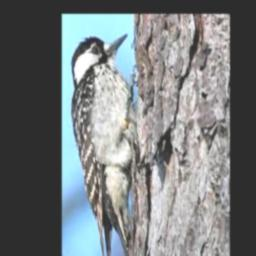Woodpecker: (70, 34, 155, 256)
